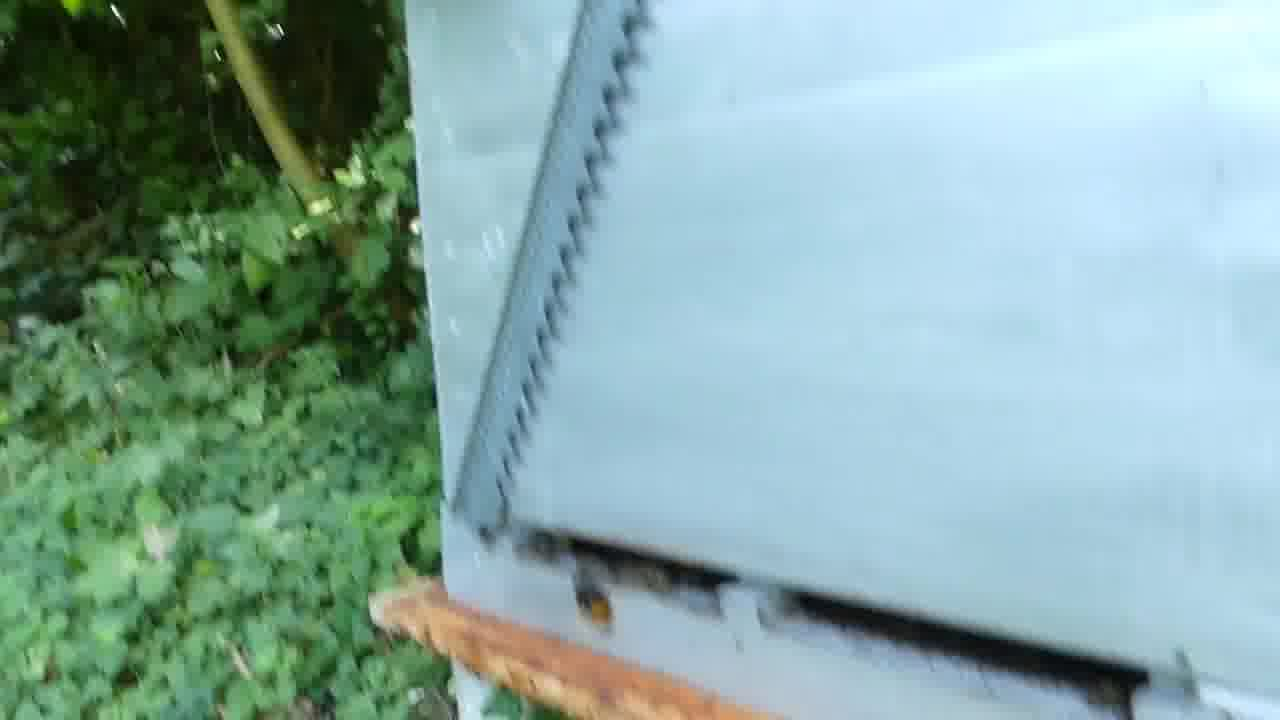hornet: (567, 571, 619, 625)
